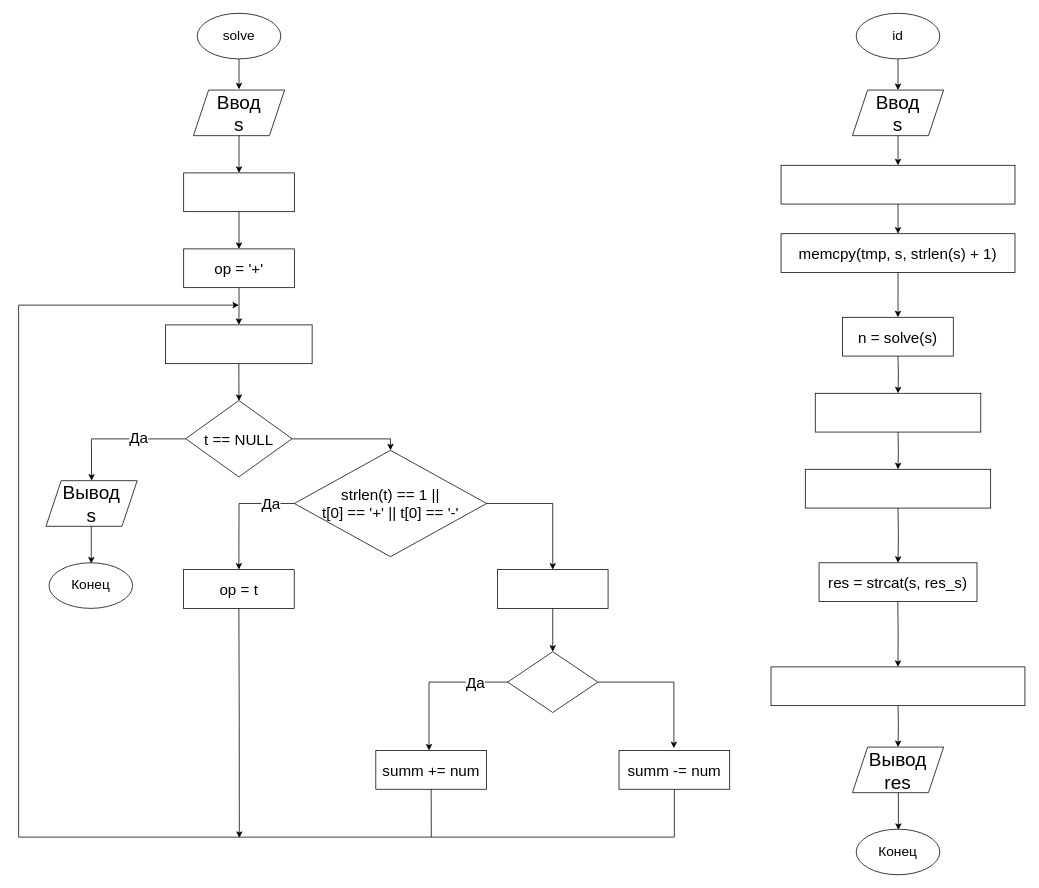
Some shapes in this 1039 by 888 pixel diagram are drawn without their labels. Here are the shapes that lost their labels. From the top down, the centre of each, then its label:
[238,192]: summ = 0
[897,184]: tmp = malloc(strlen(s) + 1)
[238,344]: t = strtok(s, "\t ")
[897,412]: n_s = itoa(n)
[898,488]: res_s = strcat(" = ", n_s)
[552,588]: num = atoi(t)
[552,681]: op == '+'
[897,686]: free(n_s), free(res_s), free(temp)
